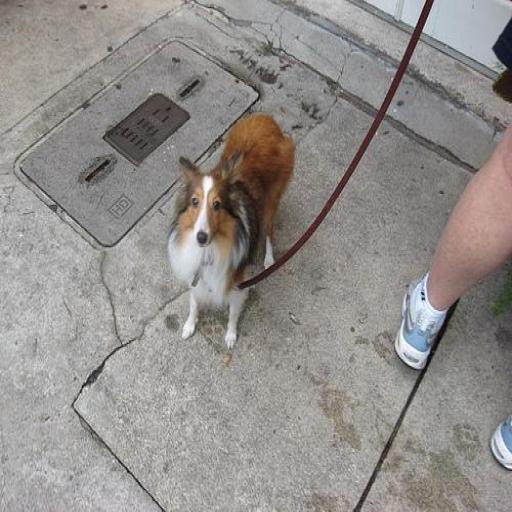dog_face: (177, 155, 242, 251)
